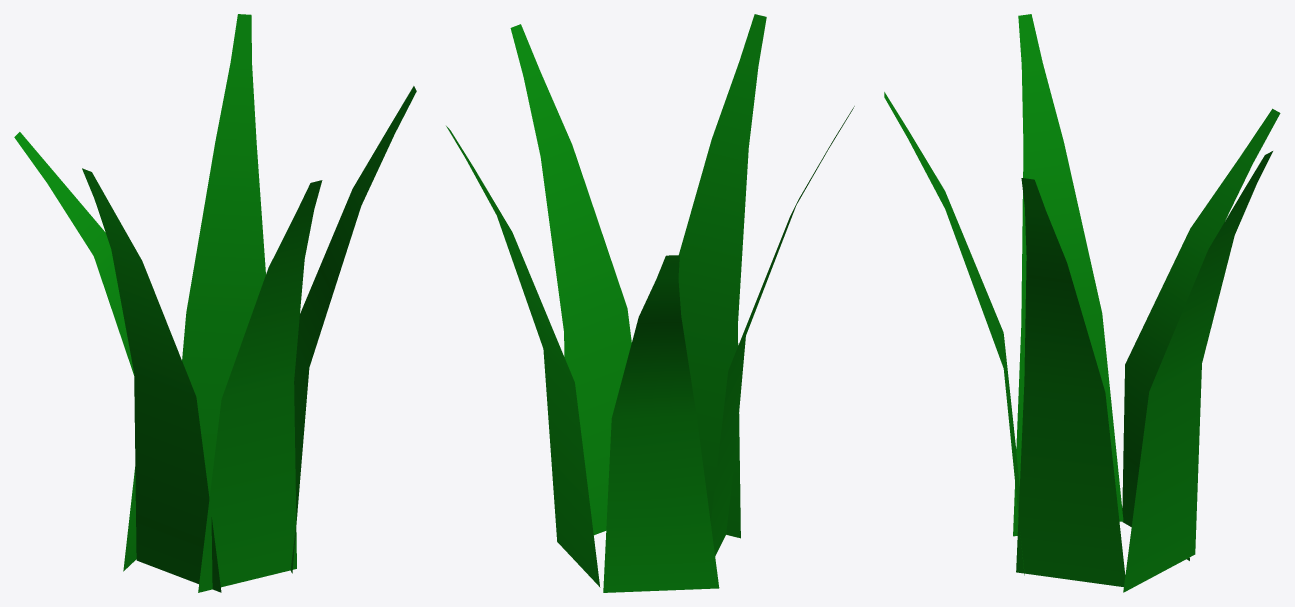
File: Grass.fbx
The picture shows the model from 3 angles, left to right: view 1: azimuth 30°, elevation 25°; view 2: azimuth 150°, elevation 25°; view 3: azimuth 270°, elevation 25°; orthographic projection. The views are drawn at different scales.
Parts seen in each view (by area): view 1: Grass; view 2: Grass; view 3: Grass.
Boxes of the visible parts, x1,y1,x2,y2 form: Grass: (14,14,416,592); Grass: (446,14,854,592); Grass: (884,14,1280,592).
Size of the model in its own units: 0.5367 by 0.5424 by 0.7028.
